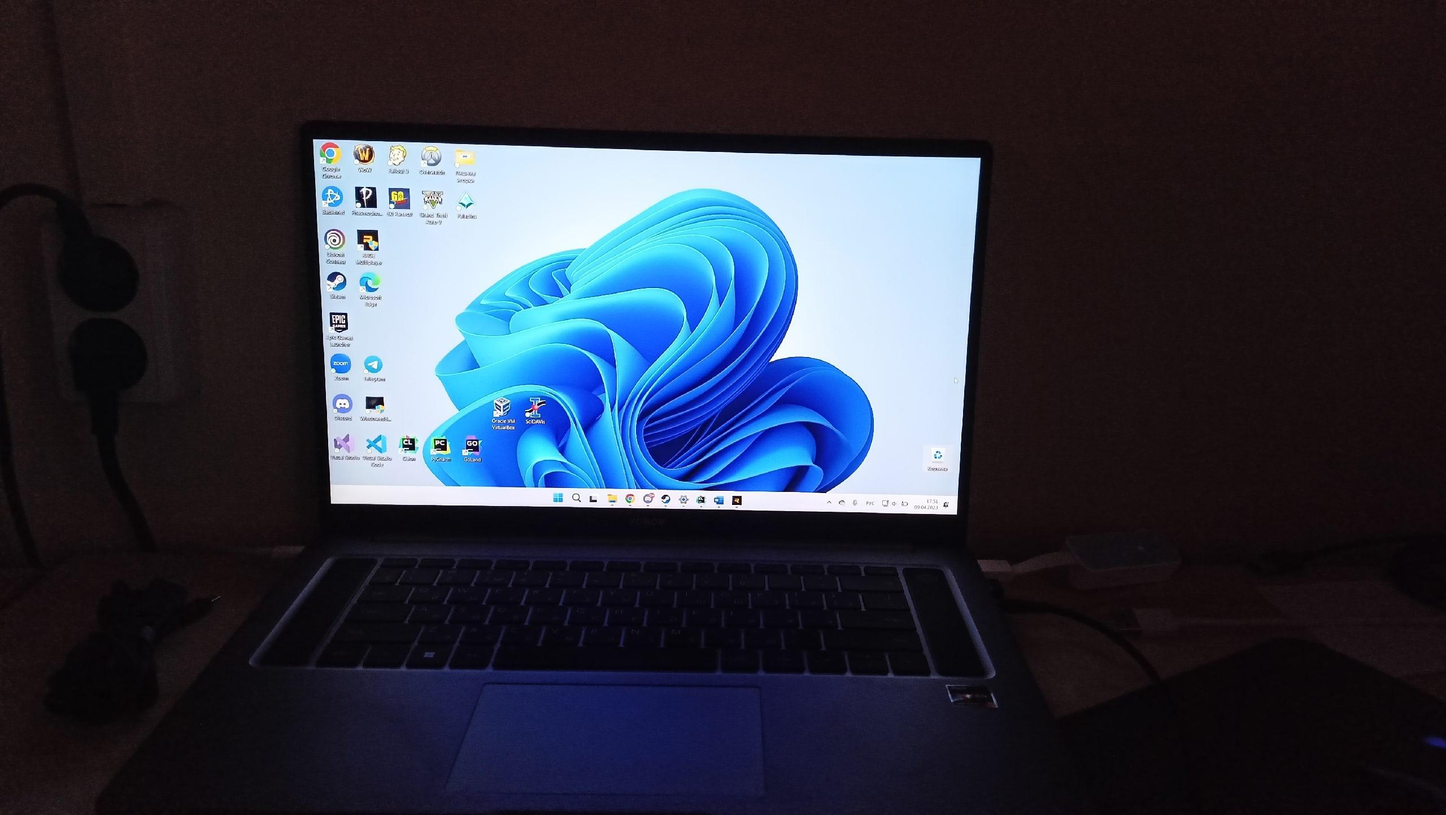monitor: (294, 113, 1003, 562)
